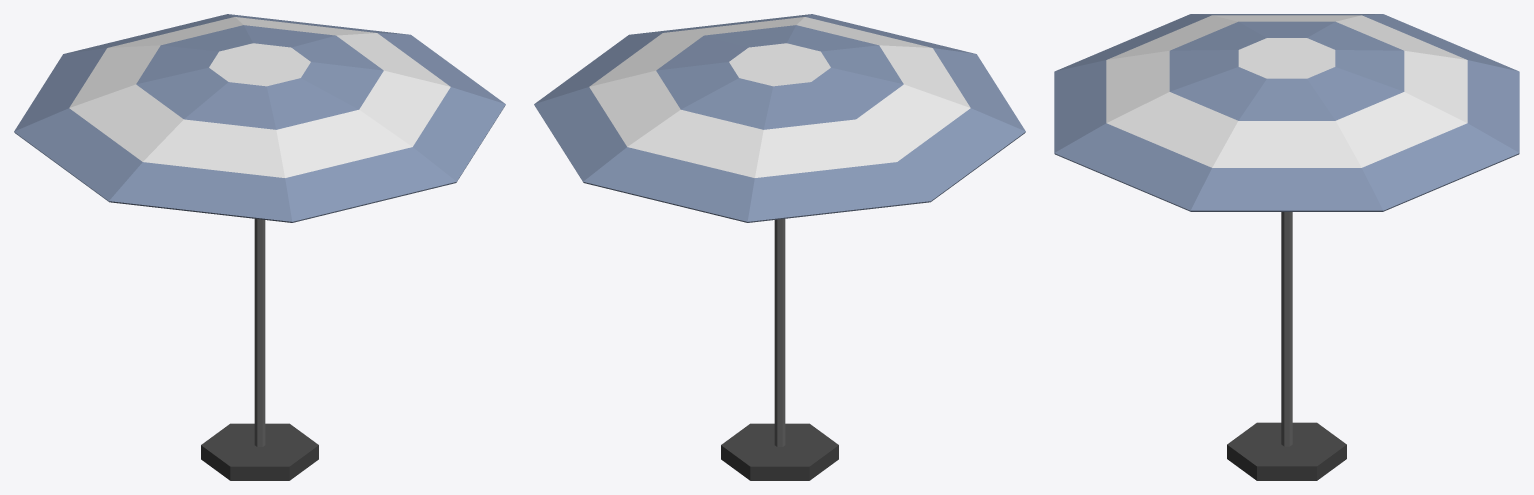
Rendered from Umbrella_06.fbx.
3 renders of one model, left to right at view 1: azimuth 30°, elevation 25°; view 2: azimuth 150°, elevation 25°; view 3: azimuth 270°, elevation 25°, orthographic.
Parts seen in each view (by area): view 1: Umbrella_06; view 2: Umbrella_06; view 3: Umbrella_06.
Boxes of the visible parts, bbox=[...] form: Umbrella_06: bbox=[14, 14, 505, 480]; Umbrella_06: bbox=[534, 14, 1025, 480]; Umbrella_06: bbox=[1054, 14, 1519, 480].
Bounding box in the file's own units: 277 × 263 × 277.
